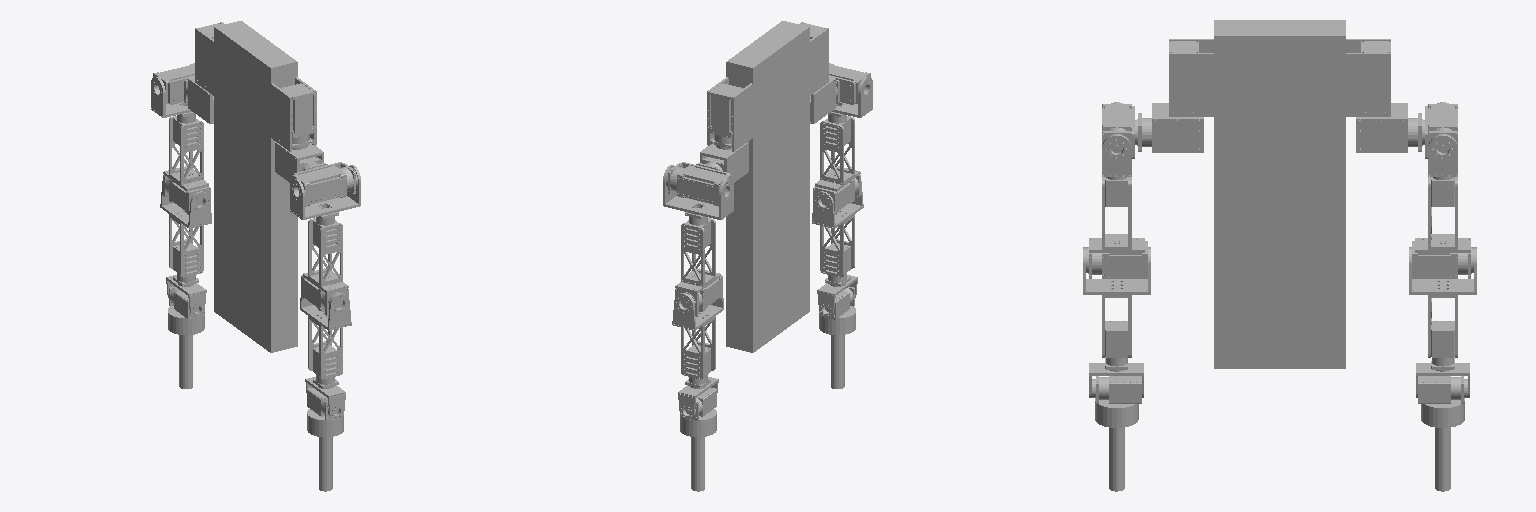
The robot description file, URDF, robot "Joe":
<?xml version="1.0" encoding="utf-8"?>
<!-- This URDF was automatically created by SolidWorks to URDF Exporter! Originally created by [author] ([email redacted]) 
     Commit Version: 1.5.1-0-g916b5db  Build Version: 1.5.7152.31018
     For more information, please see http://wiki.ros.org/sw_urdf_exporter -->
<robot
  name="Joe">
  <link
    name="base_link">
    <inertial>
      <origin
        xyz="1.11022302462516E-16 4.57966997657877E-16 -0.106987126980554"
        rpy="0 0 0" />
      <mass
        value="11.5140245979311" />
      <inertia
        ixx="0.448788498990354"
        ixy="4.02414228067302E-19"
        ixz="-1.04949529110216E-18"
        iyy="0.401603547193525"
        iyz="-4.41670292219499E-18"
        izz="0.0551686715592978" />
    </inertial>
    <visual>
      <origin
        xyz="0 0 0"
        rpy="0 0 0" />
      <geometry>
        <mesh
          filename="package://Joe/meshes/base_link.STL" />
      </geometry>
      <material
        name="">
        <color
          rgba="0.752941176470588 0.752941176470588 0.752941176470588 1" />
      </material>
    </visual>
    <collision>
      <origin
        xyz="0 0 0"
        rpy="0 0 0" />
      <geometry>
        <mesh
          filename="package://Joe/meshes/base_link.STL" />
      </geometry>
    </collision>
  </link>
  <link
    name="left_link1">
    <inertial>
      <origin
        xyz="0.020220864825567 0 -0.00451502540151849"
        rpy="0 0 0" />
      <mass
        value="0.449009050191168" />
      <inertia
        ixx="0.000189093688883389"
        ixy="-3.65460283419472E-19"
        ixz="-2.1272194111636E-07"
        iyy="0.000611349676589368"
        iyz="1.09681201569454E-20"
        izz="0.000586664398807723" />
    </inertial>
    <visual>
      <origin
        xyz="0 0 0"
        rpy="0 0 0" />
      <geometry>
        <mesh
          filename="package://Joe/meshes/left_link1.STL" />
      </geometry>
      <material
        name="">
        <color
          rgba="0.752941176470588 0.752941176470588 0.752941176470588 1" />
      </material>
    </visual>
    <collision>
      <origin
        xyz="0 0 0"
        rpy="0 0 0" />
      <geometry>
        <mesh
          filename="package://Joe/meshes/left_link1.STL" />
      </geometry>
    </collision>
  </link>
  <joint
    name="left_joint1"
    type="continuous">
    <origin
      xyz="0 0.175 0"
      rpy="3.1416 0 1.5708" />
    <parent
      link="base_link" />
    <child
      link="left_link1" />
    <axis
      xyz="0 0 1" />
  </joint>
  <link
    name="left_link2">
    <inertial>
      <origin
        xyz="-0.00188147339103562 4.41529698275156E-07 0.119240059515304"
        rpy="0 0 0" />
      <mass
        value="0.383671944787966" />
      <inertia
        ixx="0.000165197470366309"
        ixy="-2.26166332210087E-09"
        ixz="8.78294549483939E-20"
        iyy="0.000541985890564374"
        iyz="1.71933076722577E-20"
        izz="0.000551229826505679" />
    </inertial>
    <visual>
      <origin
        xyz="0 0 0"
        rpy="0 0 0" />
      <geometry>
        <mesh
          filename="package://Joe/meshes/left_link2.STL" />
      </geometry>
      <material
        name="">
        <color
          rgba="0.752941176470588 0.752941176470588 0.752941176470588 1" />
      </material>
    </visual>
    <collision>
      <origin
        xyz="0 0 0"
        rpy="0 0 0" />
      <geometry>
        <mesh
          filename="package://Joe/meshes/left_link2.STL" />
      </geometry>
    </collision>
  </link>
  <joint
    name="left_join2"
    type="continuous">
    <origin
      xyz="0 0 0"
      rpy="1.5708 0 1.5708" />
    <parent
      link="left_link1" />
    <child
      link="left_link2" />
    <axis
      xyz="0 0 1" />
  </joint>
  <link
    name="left_link3">
    <inertial>
      <origin
        xyz="-0.0362305634826249 -5.55111512312578E-17 0"
        rpy="0 0 0" />
      <mass
        value="0.0836624067435229" />
      <inertia
        ixx="8.11503042608759E-05"
        ixy="7.49197232038841E-20"
        ixz="-4.47908336914474E-21"
        iyy="8.36129101319399E-05"
        iyz="-1.26983741416935E-20"
        izz="4.48120330266361E-05" />
    </inertial>
    <visual>
      <origin
        xyz="0 0 0"
        rpy="0 0 0" />
      <geometry>
        <mesh
          filename="package://Joe/meshes/left_link3.STL" />
      </geometry>
      <material
        name="">
        <color
          rgba="0.752941176470588 0.752941176470588 0.752941176470588 1" />
      </material>
    </visual>
    <collision>
      <origin
        xyz="0 0 0"
        rpy="0 0 0" />
      <geometry>
        <mesh
          filename="package://Joe/meshes/left_link3.STL" />
      </geometry>
    </collision>
  </link>
  <joint
    name="left_joint3"
    type="continuous">
    <origin
      xyz="0 0 0.122"
      rpy="-1.5708 0 -1.5708" />
    <parent
      link="left_link2" />
    <child
      link="left_link3" />
    <axis
      xyz="0 0 1" />
  </joint>
  <link
    name="left_link4">
    <inertial>
      <origin
        xyz="0.00113226650921217 -5.20306055462605E-07 -0.203904175214239"
        rpy="0 0 0" />
      <mass
        value="0.536031842140331" />
      <inertia
        ixx="0.000352269389999399"
        ixy="-7.29005193983804E-10"
        ixz="2.63734078570941E-11"
        iyy="0.00054630845212098"
        iyz="6.37861794480233E-10"
        izz="0.000424675608858154" />
    </inertial>
    <visual>
      <origin
        xyz="0 0 0"
        rpy="0 0 0" />
      <geometry>
        <mesh
          filename="package://Joe/meshes/left_link4.STL" />
      </geometry>
      <material
        name="">
        <color
          rgba="0.752941176470588 0.752941176470588 0.752941176470588 1" />
      </material>
    </visual>
    <collision>
      <origin
        xyz="0 0 0"
        rpy="0 0 0" />
      <geometry>
        <mesh
          filename="package://Joe/meshes/left_link4.STL" />
      </geometry>
    </collision>
  </link>
  <joint
    name="left_joint4"
    type="continuous">
    <origin
      xyz="0 0 0"
      rpy="1.5708 0.0024223 1.5708" />
    <parent
      link="left_link3" />
    <child
      link="left_link4" />
    <axis
      xyz="0 0 1" />
  </joint>
  <link
    name="left_link5">
    <inertial>
      <origin
        xyz="-4.03106211854798E-07 0.122853347052059 1.11022302462516E-16"
        rpy="0 0 0" />
      <mass
        value="0.271635742603924" />
      <inertia
        ixx="0.000232339890693184"
        ixy="6.37861794468831E-10"
        ixz="1.45035651613341E-16"
        iyy="0.000117545767685688"
        iyz="1.16962914683338E-20"
        izz="0.000228408209804266" />
    </inertial>
    <visual>
      <origin
        xyz="0 0 0"
        rpy="0 0 0" />
      <geometry>
        <mesh
          filename="package://Joe/meshes/left_link5.STL" />
      </geometry>
      <material
        name="">
        <color
          rgba="0.752941176470588 0.752941176470588 0.752941176470588 1" />
      </material>
    </visual>
    <collision>
      <origin
        xyz="0 0 0"
        rpy="0 0 0" />
      <geometry>
        <mesh
          filename="package://Joe/meshes/left_link5.STL" />
      </geometry>
    </collision>
  </link>
  <joint
    name="left_joint5"
    type="continuous">
    <origin
      xyz="0 0 -0.257"
      rpy="-1.5708 0 1.5708" />
    <parent
      link="left_link4" />
    <child
      link="left_link5" />
    <axis
      xyz="0 0 1" />
  </joint>
  <link
    name="left_link6">
    <inertial>
      <origin
        xyz="1.77635683940025E-15 0 0.228662497788161"
        rpy="0 0 0" />
      <mass
        value="0.0371773964135461" />
      <inertia
        ixx="1.91147894150255E-05"
        ixy="-1.90582413132218E-21"
        ixz="1.47190091517792E-20"
        iyy="9.88466917762178E-06"
        iyz="-4.87913637271428E-22"
        izz="2.0229934027417E-05" />
    </inertial>
    <visual>
      <origin
        xyz="0 0 0"
        rpy="0 0 0" />
      <geometry>
        <mesh
          filename="package://Joe/meshes/left_link6.STL" />
      </geometry>
      <material
        name="">
        <color
          rgba="0.752941176470588 0.752941176470588 0.752941176470588 1" />
      </material>
    </visual>
    <collision>
      <origin
        xyz="0 0 0"
        rpy="0 0 0" />
      <geometry>
        <mesh
          filename="package://Joe/meshes/left_link6.STL" />
      </geometry>
    </collision>
  </link>
  <joint
    name="left_joint6"
    type="continuous">
    <origin
      xyz="0 0 0"
      rpy="-1.5708 0 0" />
    <parent
      link="left_link5" />
    <child
      link="left_link6" />
    <axis
      xyz="0 0 1" />
  </joint>
  <link
    name="left_link7">
    <inertial>
      <origin
        xyz="-2.48726896190377E-07 0.0478425504244868 -0.000809966042038424"
        rpy="0 0 0" />
      <mass
        value="0.440234064848019" />
      <inertia
        ixx="0.000890184237942202"
        ixy="-1.45223956213885E-16"
        ixz="6.37861729263452E-10"
        iyy="0.000262602167507302"
        iyz="8.05729138164508E-20"
        izz="0.000838502061395766" />
    </inertial>
    <visual>
      <origin
        xyz="0 0 0"
        rpy="0 0 0" />
      <geometry>
        <mesh
          filename="package://Joe/meshes/left_link7.STL" />
      </geometry>
      <material
        name="">
        <color
          rgba="0.752941176470588 0.752941176470588 0.752941176470588 1" />
      </material>
    </visual>
    <collision>
      <origin
        xyz="0 0 0"
        rpy="0 0 0" />
      <geometry>
        <mesh
          filename="package://Joe/meshes/left_link7.STL" />
      </geometry>
    </collision>
  </link>
  <joint
    name="left_joint7"
    type="continuous">
    <origin
      xyz="0 0 0.258"
      rpy="1.5708 0 0" />
    <parent
      link="left_link6" />
    <child
      link="left_link7" />
    <axis
      xyz="0 0 1" />
  </joint>
  <link
    name="right_link1">
    <inertial>
      <origin
        xyz="0.0202208648255669 -1.11022302462516E-16 -0.00451502540151674"
        rpy="0 0 0" />
      <mass
        value="0.449009050191167" />
      <inertia
        ixx="0.000189093688883389"
        ixy="-7.05374778682046E-20"
        ixz="-2.12721941116071E-07"
        iyy="0.000611349676589368"
        iyz="-5.15020979160932E-20"
        izz="0.000586664398807722" />
    </inertial>
    <visual>
      <origin
        xyz="0 0 0"
        rpy="0 0 0" />
      <geometry>
        <mesh
          filename="package://Joe/meshes/right_link1.STL" />
      </geometry>
      <material
        name="">
        <color
          rgba="0.752941176470588 0.752941176470588 0.752941176470588 1" />
      </material>
    </visual>
    <collision>
      <origin
        xyz="0 0 0"
        rpy="0 0 0" />
      <geometry>
        <mesh
          filename="package://Joe/meshes/right_link1.STL" />
      </geometry>
    </collision>
  </link>
  <joint
    name="right_joint1"
    type="continuous">
    <origin
      xyz="0 -0.175 0"
      rpy="3.1416 0 -1.5708" />
    <parent
      link="base_link" />
    <child
      link="right_link1" />
    <axis
      xyz="0 0 1" />
  </joint>
  <link
    name="right_link2">
    <inertial>
      <origin
        xyz="-0.0018814733910355 -4.41529699996002E-07 0.119240059515304"
        rpy="0 0 0" />
      <mass
        value="0.383671944787966" />
      <inertia
        ixx="0.000165197470366309"
        ixy="2.26166332174754E-09"
        ixz="2.15415426824174E-20"
        iyy="0.000541985890564373"
        iyz="-2.17618664274753E-20"
        izz="0.000551229826505679" />
    </inertial>
    <visual>
      <origin
        xyz="0 0 0"
        rpy="0 0 0" />
      <geometry>
        <mesh
          filename="package://Joe/meshes/right_link2.STL" />
      </geometry>
      <material
        name="">
        <color
          rgba="0.752941176470588 0.752941176470588 0.752941176470588 1" />
      </material>
    </visual>
    <collision>
      <origin
        xyz="0 0 0"
        rpy="0 0 0" />
      <geometry>
        <mesh
          filename="package://Joe/meshes/right_link2.STL" />
      </geometry>
    </collision>
  </link>
  <joint
    name="right_joint2"
    type="continuous">
    <origin
      xyz="0 0 0"
      rpy="-1.5708 0 -1.5708" />
    <parent
      link="right_link1" />
    <child
      link="right_link2" />
    <axis
      xyz="0 0 1" />
  </joint>
  <link
    name="right_link3">
    <inertial>
      <origin
        xyz="0.0362305634826248 2.77555756156289E-17 8.88178419700125E-16"
        rpy="0 0 0" />
      <mass
        value="0.0836624067435228" />
      <inertia
        ixx="8.11503042608759E-05"
        ixy="7.5894411126804E-20"
        ixz="3.90711323375774E-20"
        iyy="8.36129101319399E-05"
        iyz="2.30375526074523E-21"
        izz="4.4812033026636E-05" />
    </inertial>
    <visual>
      <origin
        xyz="0 0 0"
        rpy="0 0 0" />
      <geometry>
        <mesh
          filename="package://Joe/meshes/right_link3.STL" />
      </geometry>
      <material
        name="">
        <color
          rgba="0.752941176470588 0.752941176470588 0.752941176470588 1" />
      </material>
    </visual>
    <collision>
      <origin
        xyz="0 0 0"
        rpy="0 0 0" />
      <geometry>
        <mesh
          filename="package://Joe/meshes/right_link3.STL" />
      </geometry>
    </collision>
  </link>
  <joint
    name="right_joint3"
    type="continuous">
    <origin
      xyz="0 0 0.122"
      rpy="-1.5708 0 -1.5708" />
    <parent
      link="right_link2" />
    <child
      link="right_link3" />
    <axis
      xyz="0 0 1" />
  </joint>
  <link
    name="right_link4">
    <inertial>
      <origin
        xyz="-0.00113226650921219 -5.20306054685449E-07 -0.203904175214239"
        rpy="0 0 0" />
      <mass
        value="0.536031842140331" />
      <inertia
        ixx="0.000352269389999399"
        ixy="7.29005484181486E-10"
        ixz="-2.6373407919813E-11"
        iyy="0.00054630845212098"
        iyz="6.3786179446453E-10"
        izz="0.000424675608858154" />
    </inertial>
    <visual>
      <origin
        xyz="0 0 0"
        rpy="0 0 0" />
      <geometry>
        <mesh
          filename="package://Joe/meshes/right_link4.STL" />
      </geometry>
      <material
        name="">
        <color
          rgba="0.752941176470588 0.752941176470588 0.752941176470588 1" />
      </material>
    </visual>
    <collision>
      <origin
        xyz="0 0 0"
        rpy="0 0 0" />
      <geometry>
        <mesh
          filename="package://Joe/meshes/right_link4.STL" />
      </geometry>
    </collision>
  </link>
  <joint
    name="right_joint4"
    type="continuous">
    <origin
      xyz="0 0 0"
      rpy="1.5708 0 -1.5708" />
    <parent
      link="right_link3" />
    <child
      link="right_link4" />
    <axis
      xyz="0 0 1" />
  </joint>
  <link
    name="right_link5">
    <inertial>
      <origin
        xyz="-4.03106211410709E-07 -0.122853347052059 0"
        rpy="0 0 0" />
      <mass
        value="0.271635742603923" />
      <inertia
        ixx="0.000232339890693184"
        ixy="-6.37861794360624E-10"
        ixz="-1.45039674518219E-16"
        iyy="0.000117545767685689"
        iyz="-7.44840073702798E-21"
        izz="0.000228408209804266" />
    </inertial>
    <visual>
      <origin
        xyz="0 0 0"
        rpy="0 0 0" />
      <geometry>
        <mesh
          filename="package://Joe/meshes/right_link5.STL" />
      </geometry>
      <material
        name="">
        <color
          rgba="0.752941176470588 0.752941176470588 0.752941176470588 1" />
      </material>
    </visual>
    <collision>
      <origin
        xyz="0 0 0"
        rpy="0 0 0" />
      <geometry>
        <mesh
          filename="package://Joe/meshes/right_link5.STL" />
      </geometry>
    </collision>
  </link>
  <joint
    name="right_joint5"
    type="continuous">
    <origin
      xyz="0 0 -0.257"
      rpy="1.5708 0 1.5708" />
    <parent
      link="right_link4" />
    <child
      link="right_link5" />
    <axis
      xyz="0 0 1" />
  </joint>
  <link
    name="right_link6">
    <inertial>
      <origin
        xyz="2.33146835171283E-15 -2.77555756156289E-17 0.228662497788161"
        rpy="0 0 0" />
      <mass
        value="0.0371773964135462" />
      <inertia
        ixx="1.91147894150255E-05"
        ixy="-1.19147798135416E-20"
        ixz="8.79380577112088E-21"
        iyy="9.8846691776218E-06"
        iyz="2.82545940257756E-22"
        izz="2.0229934027417E-05" />
    </inertial>
    <visual>
      <origin
        xyz="0 0 0"
        rpy="0 0 0" />
      <geometry>
        <mesh
          filename="package://Joe/meshes/right_link6.STL" />
      </geometry>
      <material
        name="">
        <color
          rgba="0.752941176470588 0.752941176470588 0.752941176470588 1" />
      </material>
    </visual>
    <collision>
      <origin
        xyz="0 0 0"
        rpy="0 0 0" />
      <geometry>
        <mesh
          filename="package://Joe/meshes/right_link6.STL" />
      </geometry>
    </collision>
  </link>
  <joint
    name="right_joint6"
    type="continuous">
    <origin
      xyz="0 0 0"
      rpy="1.5708 0 0" />
    <parent
      link="right_link5" />
    <child
      link="right_link6" />
    <axis
      xyz="0 0 1" />
  </joint>
  <link
    name="right_link7">
    <inertial>
      <origin
        xyz="-2.48726903184782E-07 -0.0478425504244606 -0.000809966042028071"
        rpy="0 0 0" />
      <mass
        value="0.44023406484826" />
      <inertia
        ixx="0.000890184237942295"
        ixy="-1.45134024435919E-16"
        ixz="6.37861794454897E-10"
        iyy="0.000262602167507429"
        iyz="-1.15476110827972E-20"
        izz="0.000838502061395806" />
    </inertial>
    <visual>
      <origin
        xyz="0 0 0"
        rpy="0 0 0" />
      <geometry>
        <mesh
          filename="package://Joe/meshes/right_link7.STL" />
      </geometry>
      <material
        name="">
        <color
          rgba="0.752941176470588 0.752941176470588 0.752941176470588 1" />
      </material>
    </visual>
    <collision>
      <origin
        xyz="0 0 0"
        rpy="0 0 0" />
      <geometry>
        <mesh
          filename="package://Joe/meshes/right_link7.STL" />
      </geometry>
    </collision>
  </link>
  <joint
    name="right_joint7"
    type="continuous">
    <origin
      xyz="0 0 0.258"
      rpy="-1.5708 0 0" />
    <parent
      link="right_link6" />
    <child
      link="right_link7" />
    <axis
      xyz="0 0 1" />
  </joint>
</robot>

--- What the picture shows (computed from the rendered views, not written in the file) ---
The picture shows the robot from 3 angles, left to right: view 1: azimuth 30°, elevation 25°; view 2: azimuth 150°, elevation 25°; view 3: azimuth 270°, elevation 25°; orthographic projection.
Robot: Joe — 15 links, 14 joints (14 continuous); root link base_link; default pose: every joint at zero.
Links seen in each view (by area): view 1: base_link, right_link4, left_link4, left_link5, right_link5, right_link7, left_link7, right_link2, right_link3, right_link1, left_link1, left_link2 (+3 smaller); view 2: base_link, left_link4, right_link4, right_link5, left_link5, left_link7, right_link7, left_link2, left_link3, left_link1, right_link1, right_link2 (+3 smaller); view 3: base_link, left_link4, right_link4, left_link7, right_link7, left_link5, right_link5, left_link1, right_link1, left_link2, right_link2, left_link3 (+3 smaller).
Link boxes in pixels (x1,y1,x2,y2): base_link: [195, 21, 316, 352]; right_link4: [301, 207, 348, 316]; left_link4: [163, 105, 210, 214]; left_link5: [160, 181, 211, 286]; right_link5: [300, 293, 351, 388]; right_link7: [307, 388, 343, 491]; left_link7: [168, 287, 204, 388]; right_link2: [293, 162, 357, 206]; right_link3: [290, 165, 360, 219]; right_link1: [275, 142, 327, 182]; left_link1: [184, 77, 213, 123]; left_link2: [153, 63, 194, 104]; base_link: [707, 21, 828, 352]; left_link4: [675, 207, 722, 315]; right_link4: [813, 105, 860, 214]; right_link5: [812, 181, 863, 286]; left_link5: [672, 293, 723, 388]; left_link7: [680, 388, 716, 491]; right_link7: [819, 287, 855, 388]; left_link2: [666, 162, 730, 206]; left_link3: [663, 165, 733, 219]; left_link1: [696, 142, 748, 182]; right_link1: [810, 77, 839, 123]; right_link2: [829, 63, 870, 104]; base_link: [1169, 20, 1390, 368]; left_link4: [1412, 177, 1473, 278]; right_link4: [1086, 177, 1147, 278]; left_link7: [1418, 376, 1467, 491]; right_link7: [1092, 376, 1141, 491]; left_link5: [1409, 247, 1476, 371]; right_link5: [1083, 247, 1150, 371]; left_link1: [1356, 103, 1424, 152]; right_link1: [1135, 103, 1203, 152]; left_link2: [1425, 104, 1457, 158]; right_link2: [1102, 104, 1134, 158]; left_link3: [1428, 102, 1457, 176].
Size in the robot's own frame: 0.144 by 0.7181 by 0.9245 metres.
Meshes: 15 distinct files referenced, 15 mesh visuals loaded (15 binary STL).
